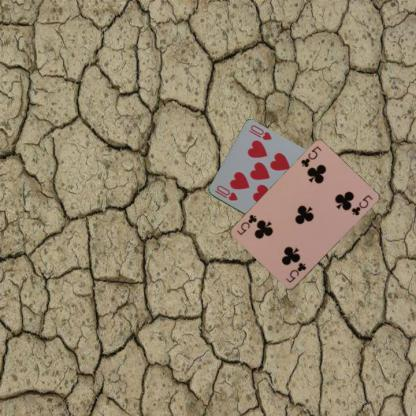10h: (212, 183, 239, 202)
5c: (298, 144, 323, 169), (283, 260, 307, 284)
